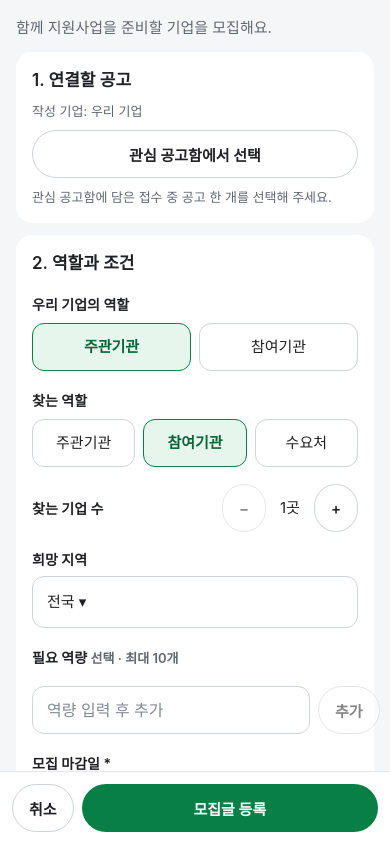
Test: saved-program failures can be retried without showing fake programs
This screenshot has width=390, height=844.
Click the button labelled "관심 공고함에서 선택" at (195, 154), box [32,130,358,178]
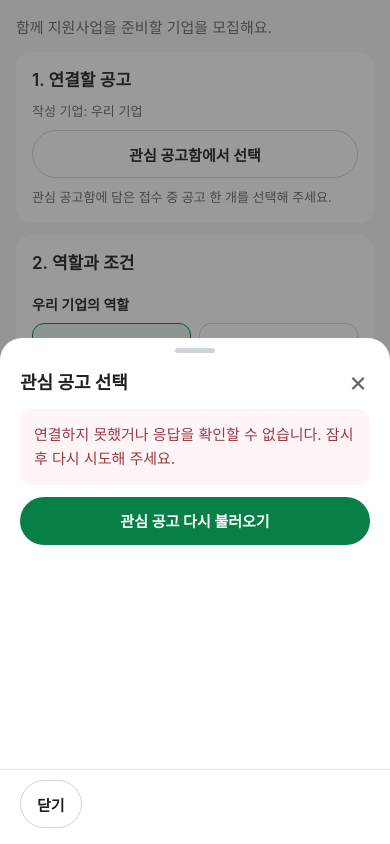
Expected: the text "공동 제조 과제" is not shown
Result: the button labelled "관심 공고 다시 불러오기" is shown
Click the button labelled "관심 공고 다시 불러오기" at (195, 521), box [20,497,370,545]
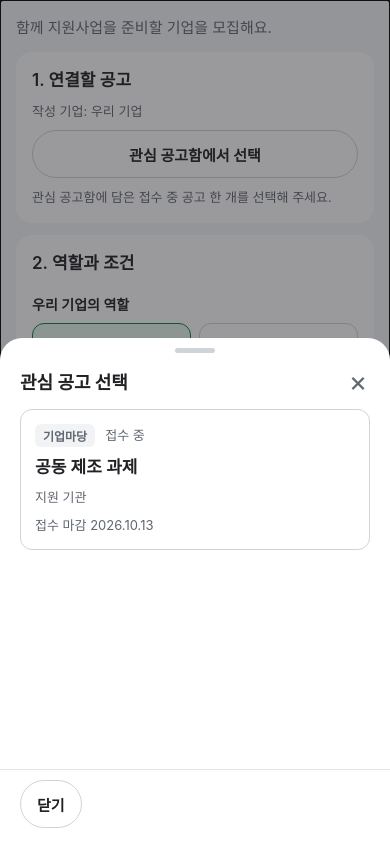
Result: the button with aria-label "공고 선택: 기업마당 공동 제조 과제" is shown at [20,409,370,550]
